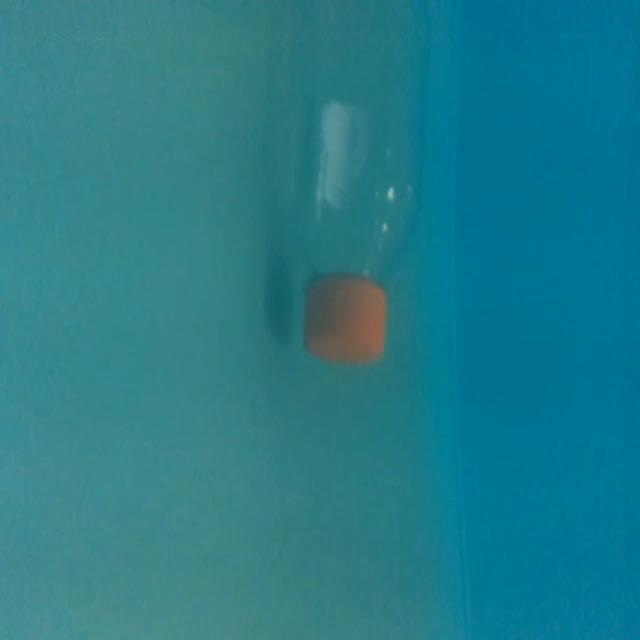plastic bottle: (286, 7, 432, 368)
